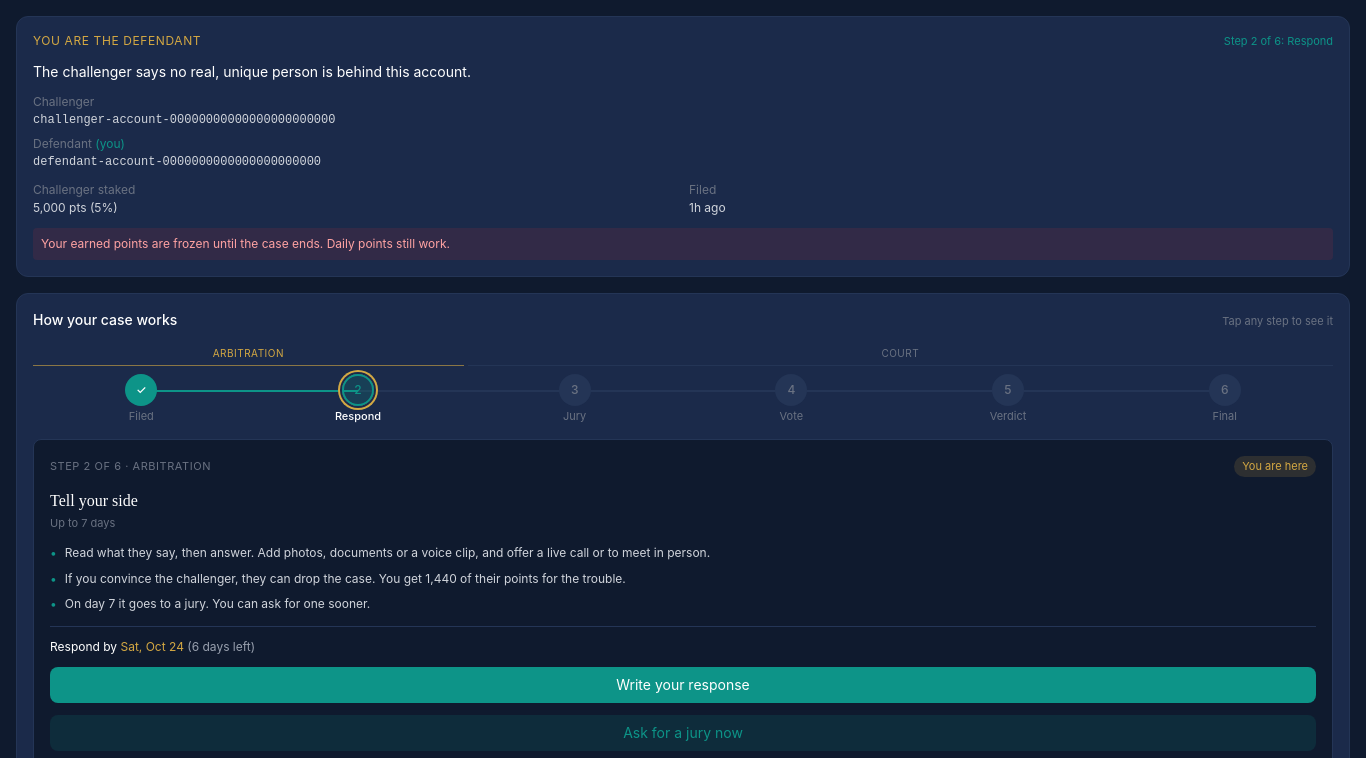
CaseDetail (defendant) › opens a later step as an example when tapped
Click the button with aria-label "Step 4: The jury votes" at (791, 398), box [683,374,900,423]
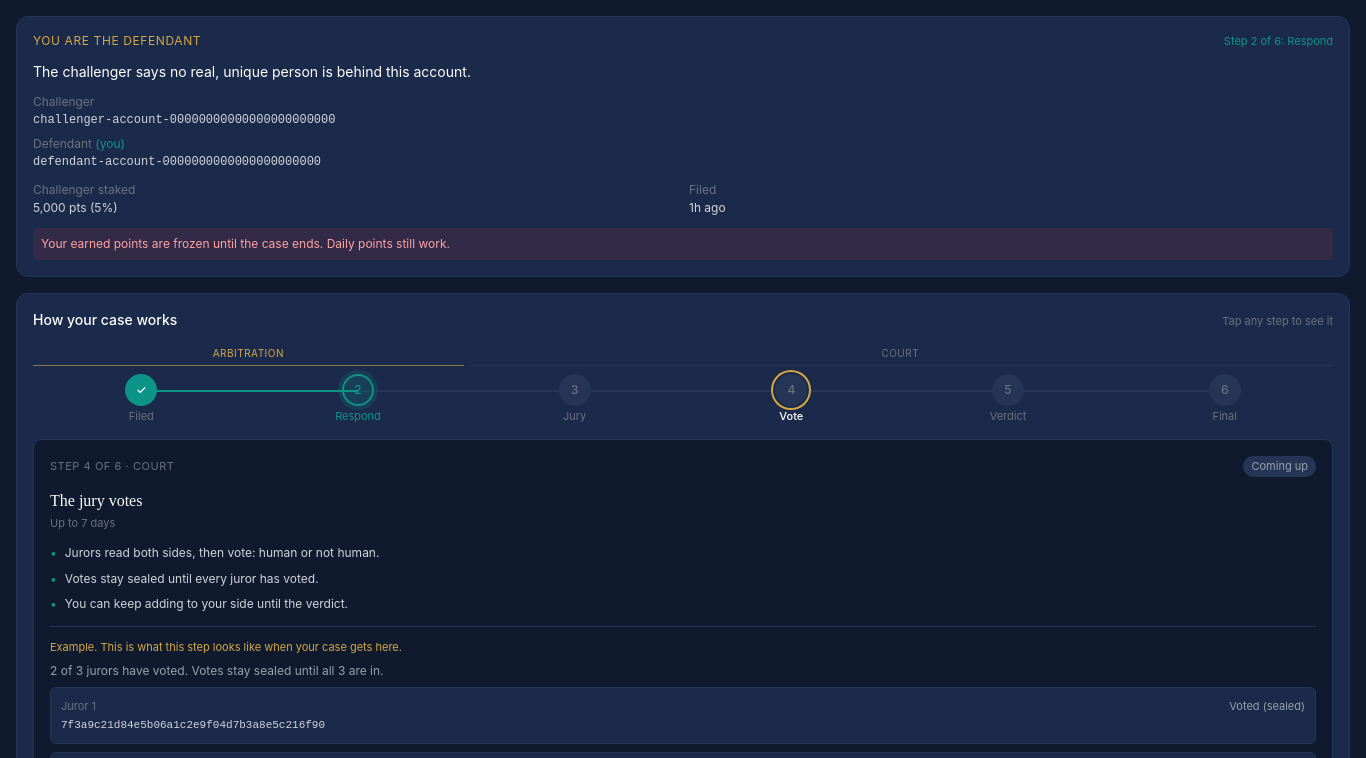
Check: the text "Coming up" is shown, box [1244,456,1316,477]
Check: the text "Example. This is what this step looks like" is shown, box [50,640,402,654]
Check: the text "2 of 3 jurors have voted" is shown, box [50,663,384,678]
